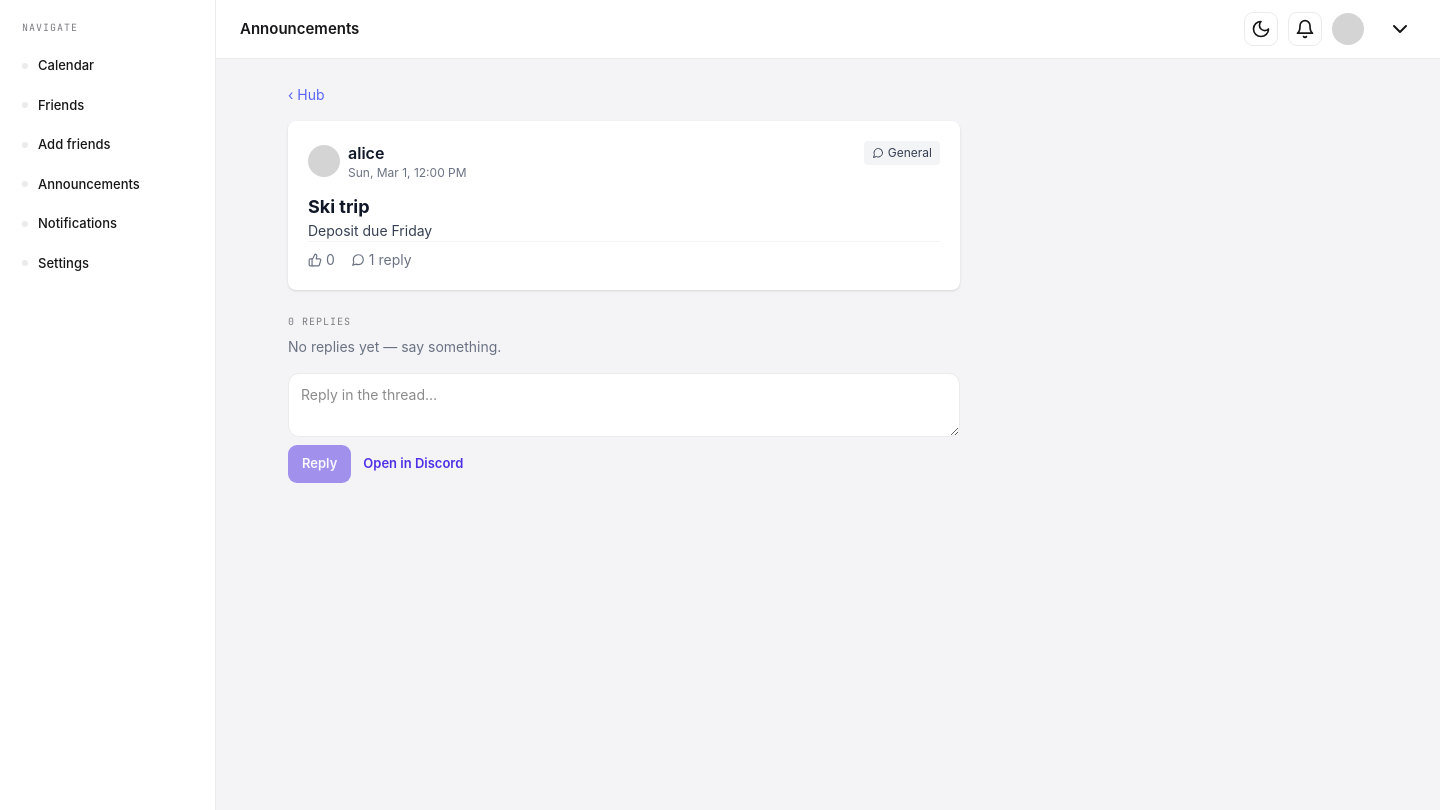
Test: announcement thread page › posts a reply and shows the refreshed thread
Expected: the heading "Ski trip" is shown, [308,196,370,217]
Type "I'm in" into the text box labelled "Reply" at (624, 405), box [288,373,960,437]
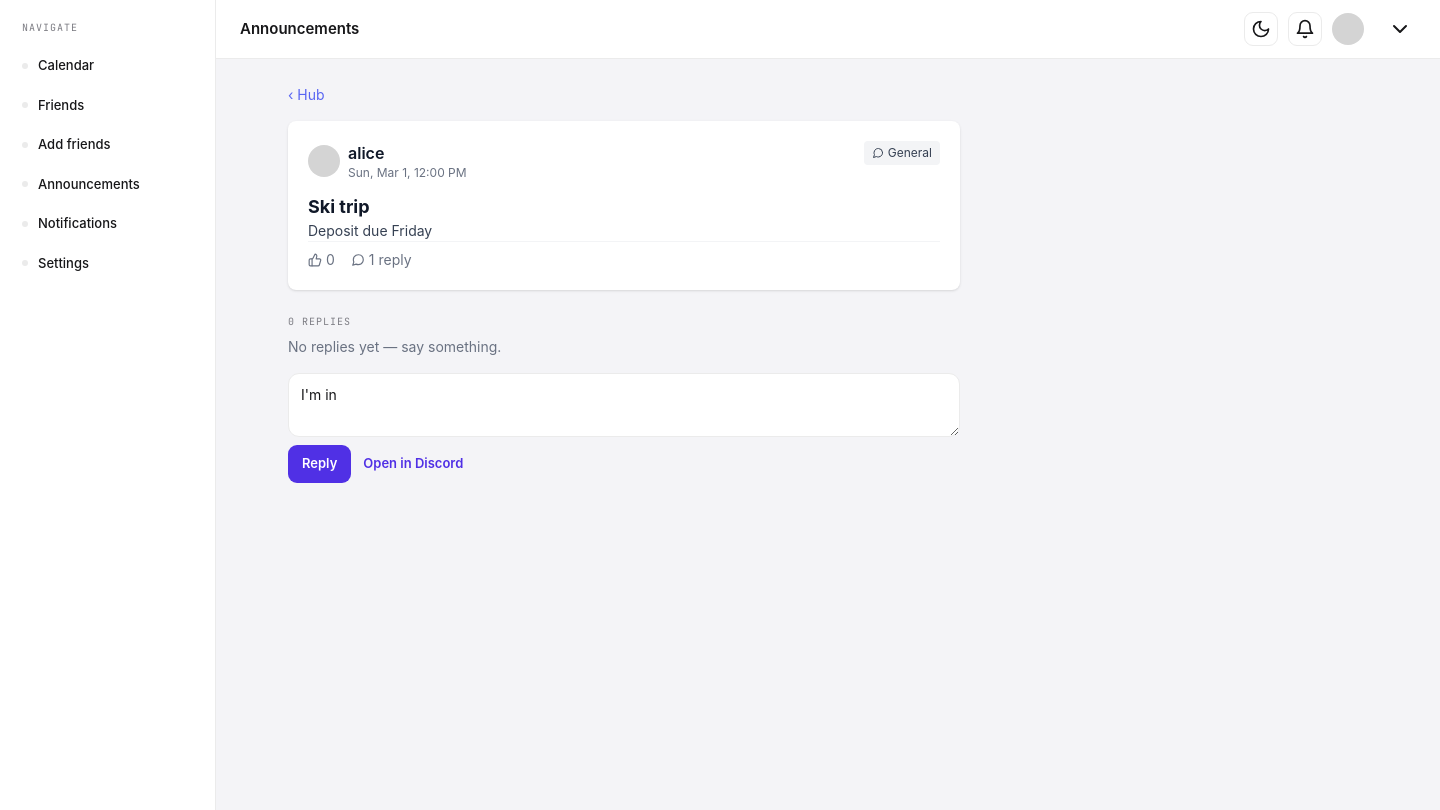
Click the button "Reply" at (320, 464), box [288,445,351,482]
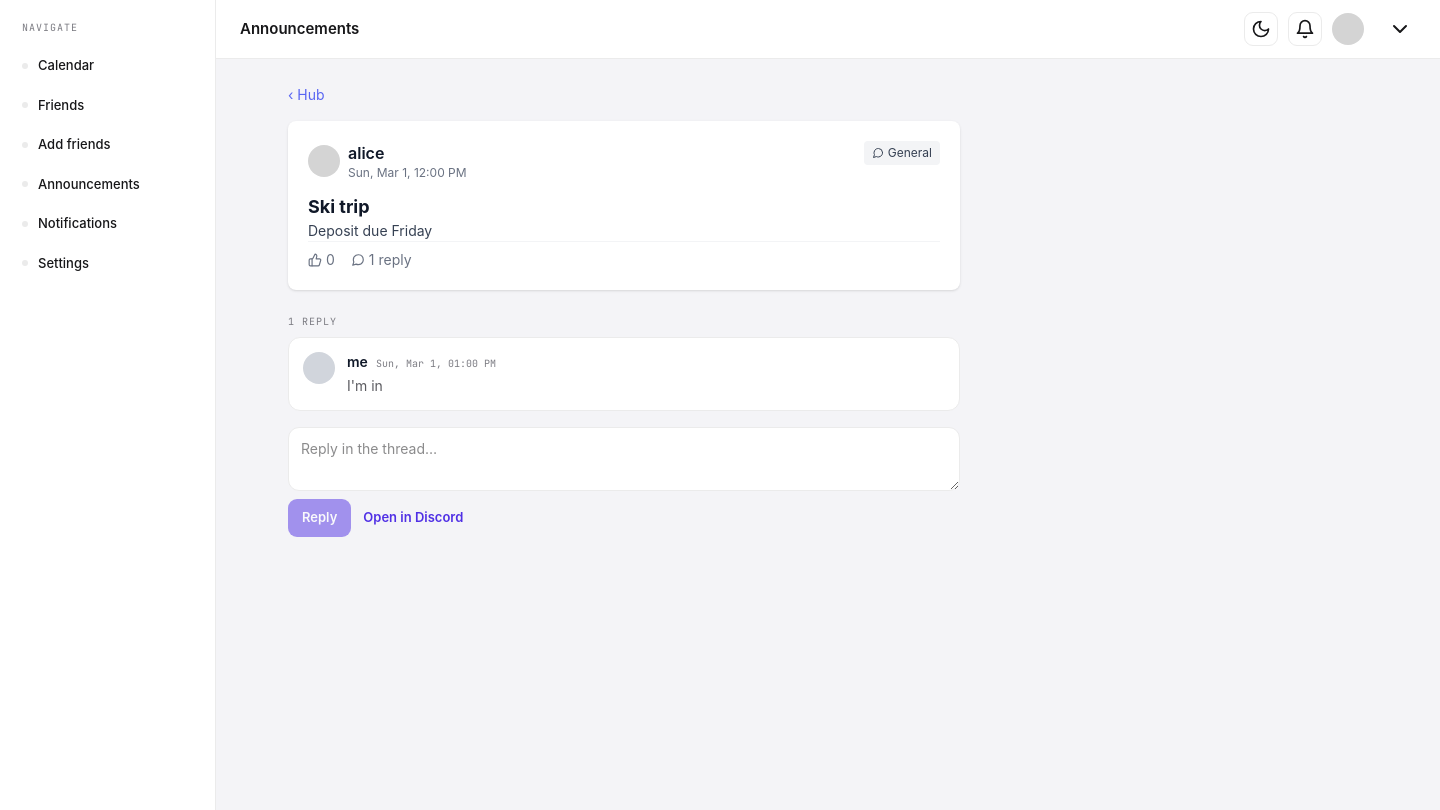
Now the text "I'm in" is shown, box [347,377,383,394]
Now the text box labelled "Reply" is empty, box [288,427,960,491]
